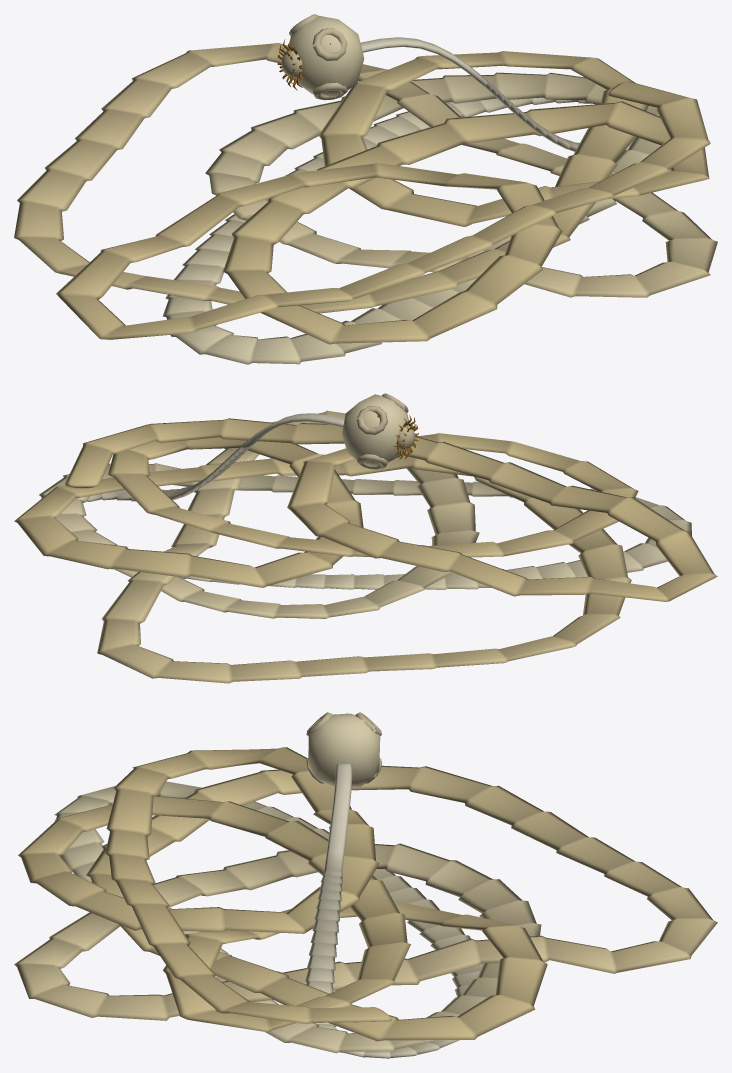
Rendered from PorkTapeworm.fbx.
The picture shows the model from 3 angles, top to bottom: view 1: azimuth 30°, elevation 25°; view 2: azimuth 150°, elevation 25°; view 3: azimuth 270°, elevation 25°; orthographic projection. The views are drawn at different scales.
Visible parts, largest first — view 1: PorkTapeworm; view 2: PorkTapeworm; view 3: PorkTapeworm.
Part boxes in pixels (x1,y1,x2,y2): PorkTapeworm: (14, 14, 717, 364); PorkTapeworm: (14, 393, 717, 683); PorkTapeworm: (14, 712, 717, 1058).
Size of the model in its own units: 1.02 by 0.2804 by 0.9784.
